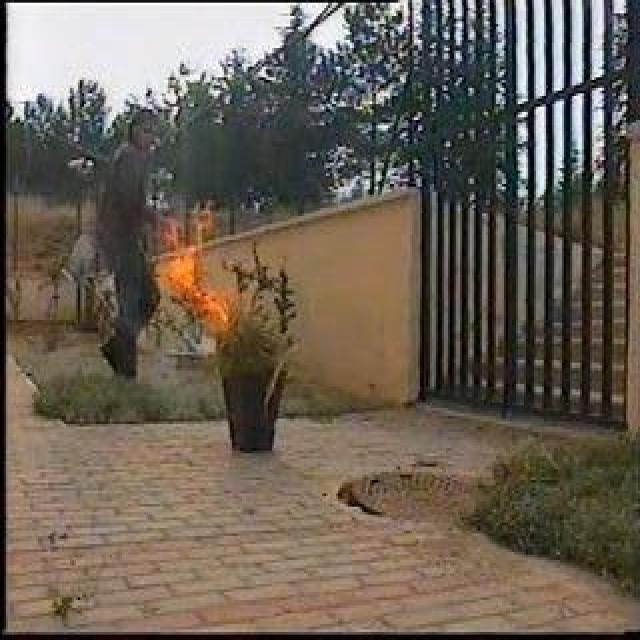fire: (163, 214, 249, 326)
